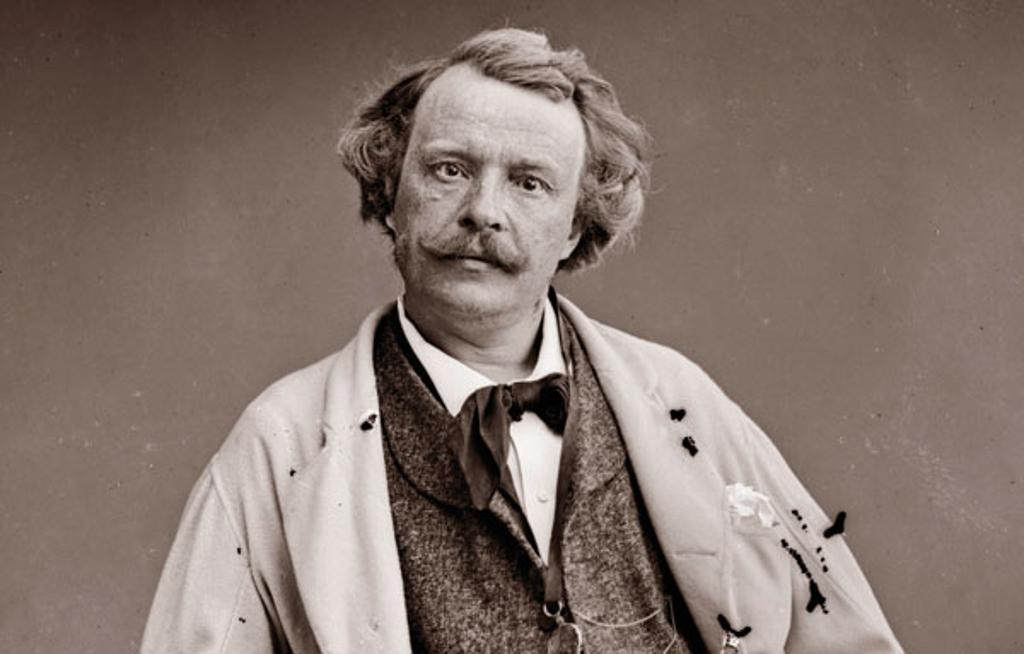face: (399, 63, 585, 317)
